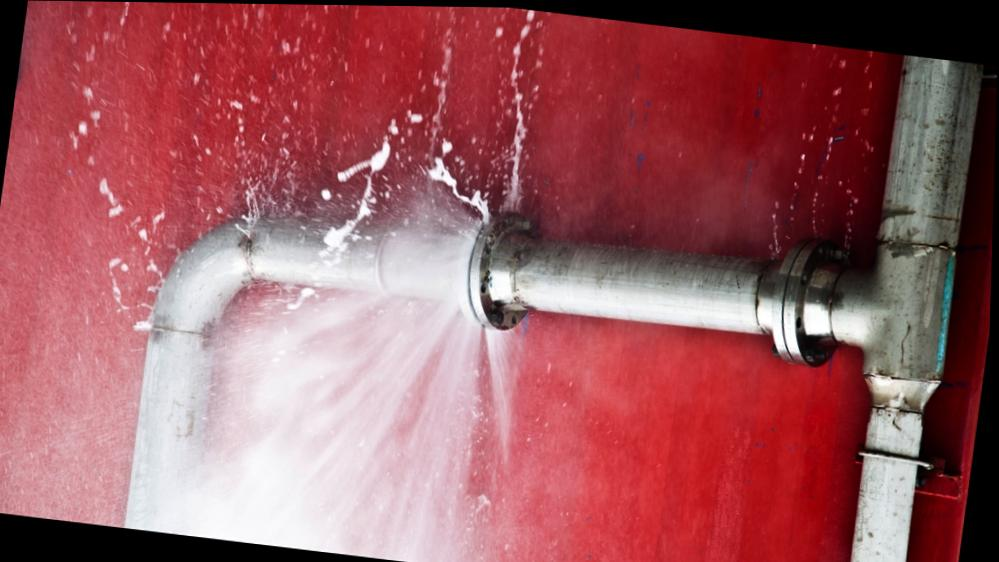leak: (101, 2, 548, 562), (754, 55, 879, 256)
